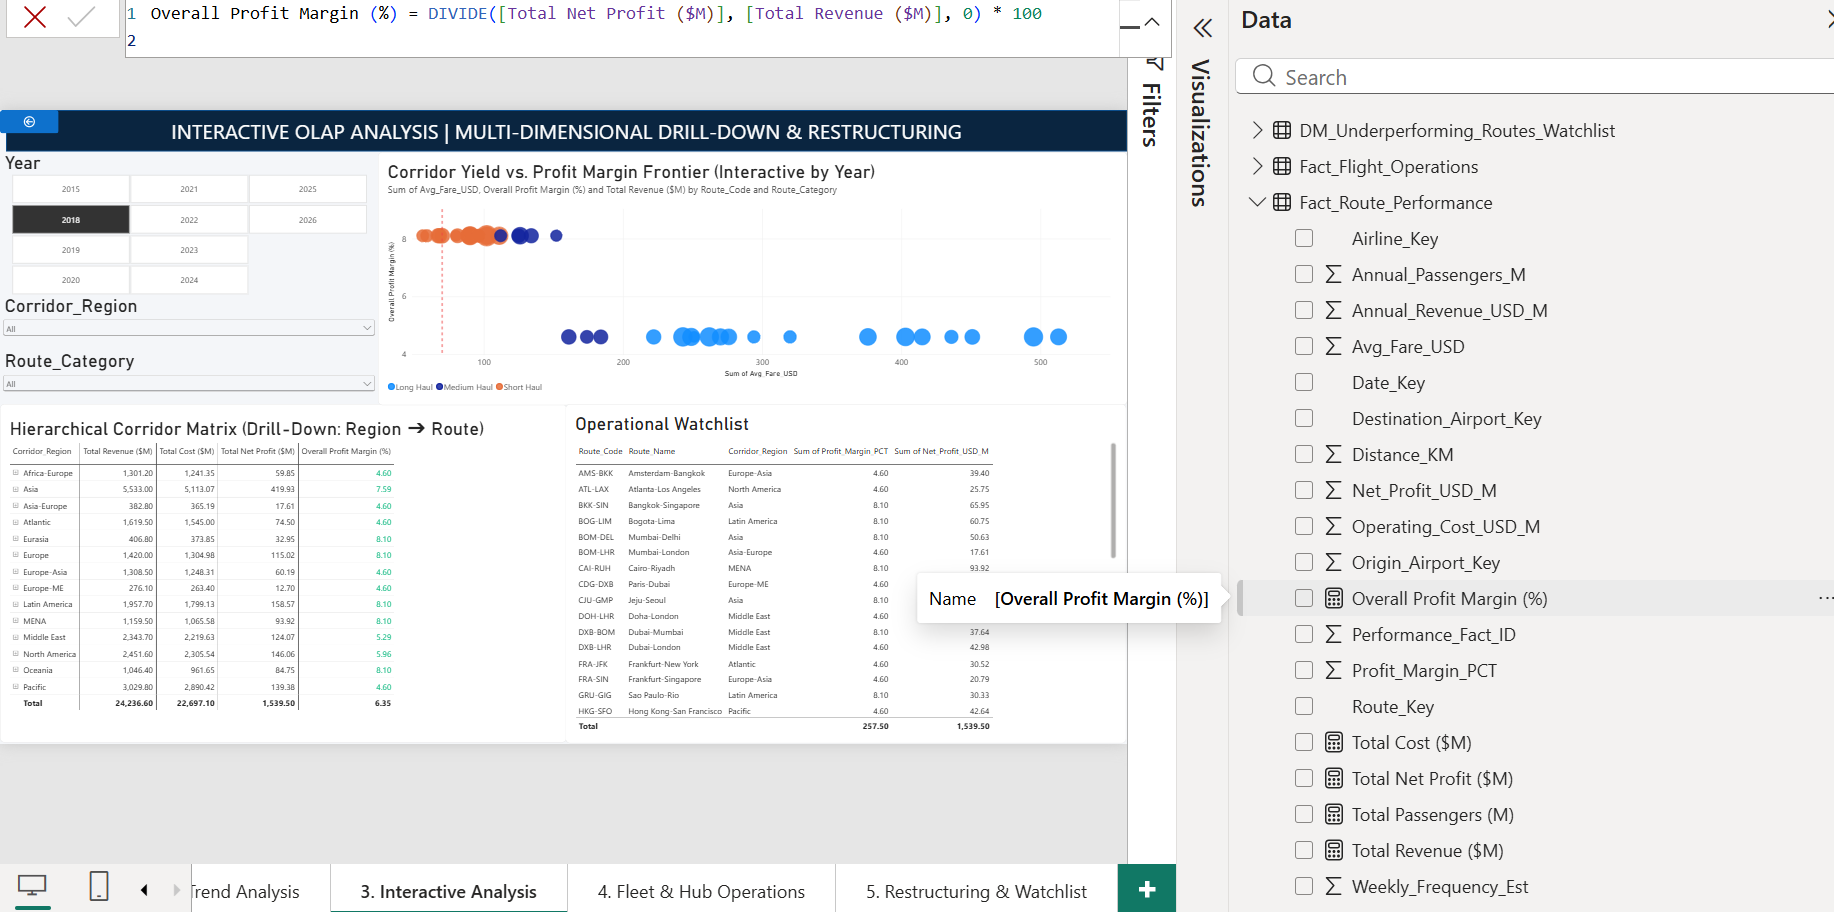

Layout of this report page (visuals, bound fields, positions):
{"tool":"powerbi","page":{"name":"3. Interactive Analysis","canvas":[1920,1080],"ordinal":2},"visuals":[{"type":"shape","box":[9.1,0,1910.2,70.4],"z":0},{"type":"slicer","fields":{"Values":["Dim_Date.Year"]},"box":[0,70.9,643.5,243.8],"z":1000},{"type":"slicer","fields":{"Values":["Dim_Route.Corridor_Region"]},"box":[0,314.6,643.5,93.5],"z":2000},{"type":"slicer","fields":{"Values":["Dim_Route.Route_Category"]},"box":[0,408.2,643.5,150.2],"z":3000},{"type":"pivotTable","title":"Hierarchical Corridor Matrix (Drill-Down: Region ➔ Route)","fields":{"Rows":["Dim_Route.Corridor_Region","Dim_Route.Route_Name"],"Values":["Fact_Route_Performance.Total Revenue ($M)","Fact_Route_Performance.Total Cost ($M)","Fact_Route_Performance.Total Net Profit ($M)","Fact_Route_Performance.Overall Profit Margin (%)"]},"box":[0,502,965.3,576.9],"z":4000},{"type":"scatterChart","title":"Corridor Yield vs. Profit Margin Frontier (Interactive by Year)","fields":{"Category":["Dim_Route.Route_Code"],"Series":["Dim_Route.Route_Category"],"Size":["Fact_Route_Performance.Total Revenue ($M)"],"X":["Sum(Fact_Route_Performance.Avg_Fare_USD)"],"Y":["Fact_Route_Performance.Overall Profit Margin (%)"]},"box":[642.8,70.4,1276.5,431.5],"z":5000},{"type":"tableEx","title":"Operational Watchlist","fields":{"Values":["Dim_Route.Route_Code","Dim_Route.Route_Name","Dim_Route.Corridor_Region","Sum(Fact_Route_Performance.Profit_Margin_PCT)","Sum(Fact_Route_Performance.Net_Profit_USD_M)"]},"box":[963.8,501.7,955.3,578.3],"z":6000},{"type":"actionButton","box":[0,0,100,40],"z":7000}]}

Visuals, with their boxes on the page's 1920x1080 design canvas (x1, y1, x2, y2). These are canvas units, not pixel positions in the 1834x912 screenshot, which may show the page scaled, cropped or inside an application window:
shape: [x1=9, y1=0, x2=1919, y2=70]
slicer - Dim_Date.Year: [x1=0, y1=71, x2=644, y2=315]
slicer - Dim_Route.Corridor_Region: [x1=0, y1=315, x2=644, y2=408]
slicer - Dim_Route.Route_Category: [x1=0, y1=408, x2=644, y2=558]
"Hierarchical Corridor Matrix (Drill-Down: Region ➔ Route)" pivotTable: [x1=0, y1=502, x2=965, y2=1079]
"Corridor Yield vs. Profit Margin Frontier (Interactive by Year)" scatterChart: [x1=643, y1=70, x2=1919, y2=502]
"Operational Watchlist" tableEx: [x1=964, y1=502, x2=1919, y2=1080]
actionButton: [x1=0, y1=0, x2=100, y2=40]
